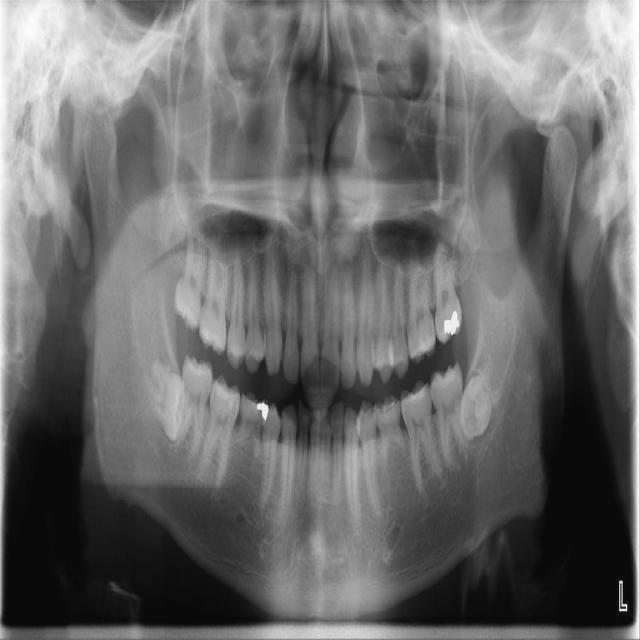Filling: (443, 311, 463, 338), (256, 401, 271, 422)
impacted tooth: (463, 363, 505, 438), (146, 361, 185, 441)
